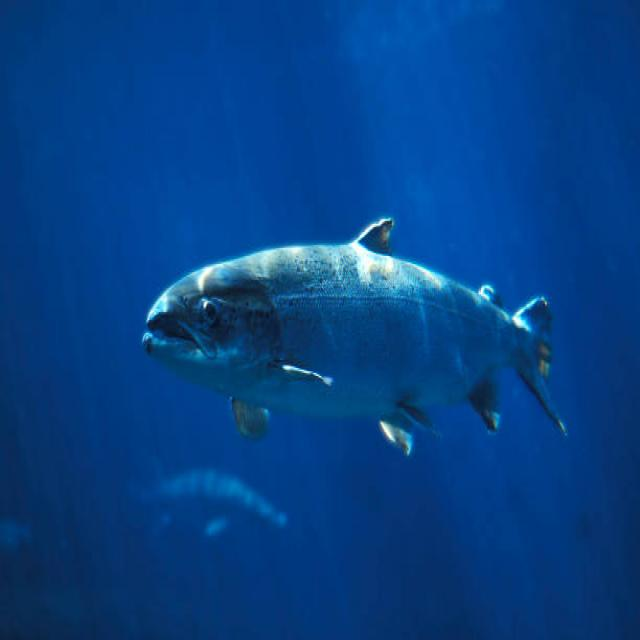salmon: (124, 197, 579, 483)
